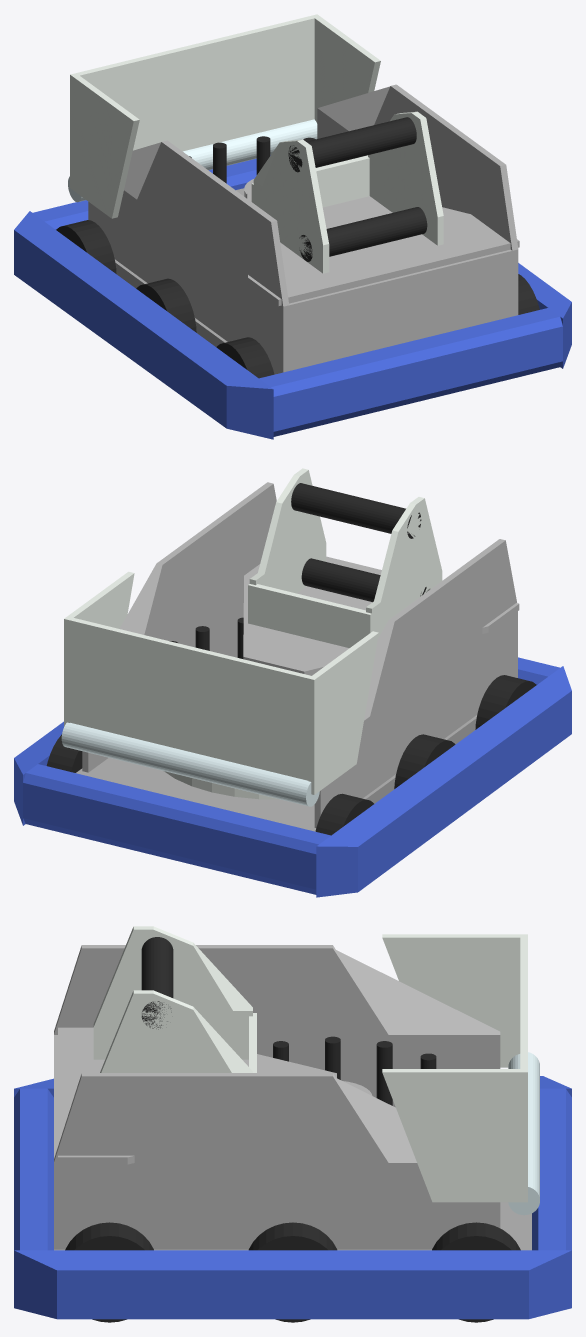
Rendered from V3Robot.fbx.
3 renders of one model, top to bottom at view 1: azimuth 30°, elevation 25°; view 2: azimuth 150°, elevation 25°; view 3: azimuth 270°, elevation 25°, orthographic. The views are drawn at different scales.
Parts seen in each view (by area): view 1: RightFrame, BackBoard, Cube.005, FrontFrame, LeftFrame, Cube, Cube.006, Cube.001, LeftGuard, RightPlate.001, LeftPlate.001, RightGuard (+12 smaller); view 2: BackBoard, RightFrame, Cube.005, LeftFrame, Cube.004, Cube.003, LeftGuard, Roller, BellyPan, RightPlate.001, Cube, BackPlate.001 (+11 smaller); view 3: LeftFrame, Cube.002, RightFrame, RightGuard, LeftGuard, RightPlate.001, LeftPlate.001, Cube, Cube.006, Cube.001, Cube.003, Cube.004 (+10 smaller).
Part boxes in pixels (x1,y1,x2,y2): RightFrame: [88, 140, 289, 374]; BackBoard: [73, 15, 317, 151]; Cube.005: [14, 211, 273, 439]; FrontFrame: [286, 249, 512, 370]; LeftFrame: [317, 84, 518, 316]; Cube: [247, 187, 519, 306]; Cube.006: [259, 343, 418, 436]; Cube.001: [404, 308, 562, 402]; LeftGuard: [70, 74, 139, 218]; RightPlate.001: [253, 139, 329, 273]; LeftPlate.001: [368, 111, 443, 245]; RightGuard: [314, 14, 380, 123]; BackBoard: [67, 617, 314, 781]; RightFrame: [314, 539, 517, 827]; Cube.005: [316, 666, 571, 897]; LeftFrame: [82, 482, 276, 772]; Cube.004: [169, 800, 330, 894]; Cube.003: [23, 764, 184, 859]; LeftGuard: [308, 631, 378, 794]; Roller: [61, 722, 319, 806]; BellyPan: [76, 715, 476, 831]; RightPlate.001: [366, 497, 442, 638]; Cube: [243, 556, 519, 675]; BackPlate.001: [248, 584, 373, 647]; LeftFrame: [54, 1073, 500, 1249]; Cube.002: [14, 1250, 571, 1319]; RightFrame: [54, 945, 500, 1107]; RightGuard: [382, 1069, 527, 1202]; LeftGuard: [382, 934, 527, 1067]; RightPlate.001: [93, 926, 252, 1059]; LeftPlate.001: [100, 990, 252, 1072]; Cube: [58, 1027, 336, 1164]; Cube.006: [14, 1088, 53, 1177]; Cube.001: [14, 1169, 53, 1250]; Cube.003: [532, 1169, 571, 1250]; Cube.004: [540, 1088, 571, 1177].
Size of the model in its own units: 573 by 390 by 700.
